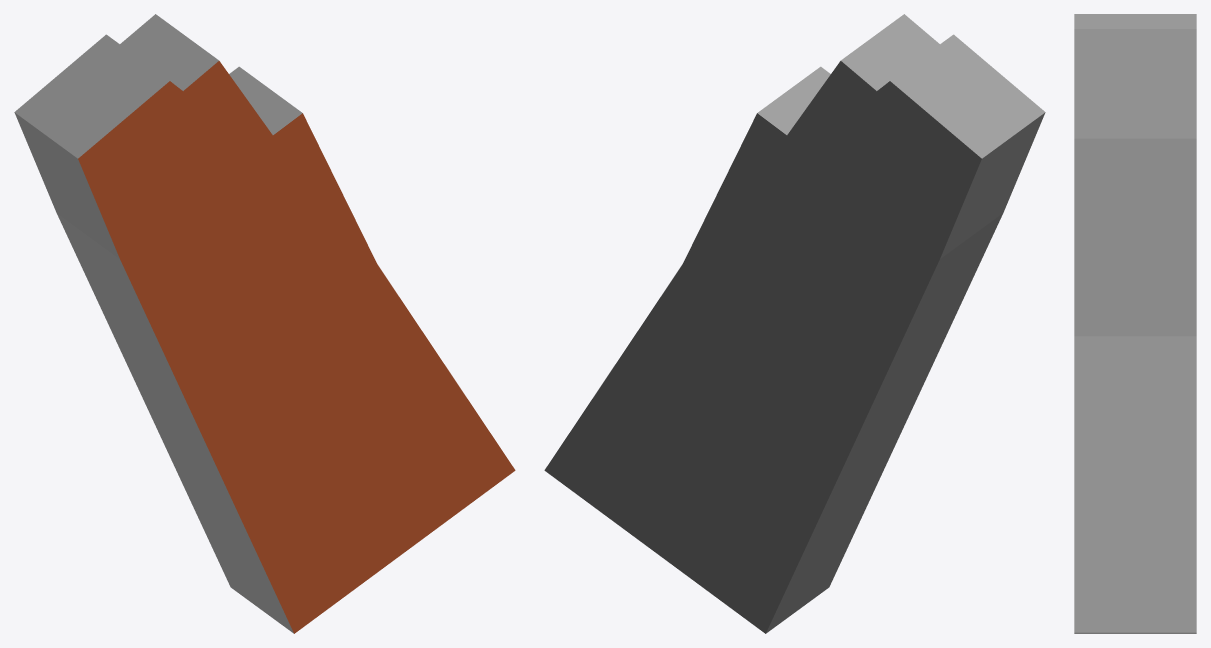
Rendered from construction_6517_assumed_A_Casa_h6m.obj.
3 renders of one model, left to right at view 1: azimuth 30°, elevation 25°; view 2: azimuth 150°, elevation 25°; view 3: azimuth 270°, elevation 25°, orthographic. The views are drawn at different scales.
Visible parts, largest first — view 1: construction_6517_assumed_A_Casa; view 2: construction_6517_assumed_A_Casa; view 3: construction_6517_assumed_A_Casa.
Part boxes in pixels (box(x1,y1,x2,y2)): construction_6517_assumed_A_Casa: box(14, 14, 515, 633); construction_6517_assumed_A_Casa: box(544, 14, 1045, 633); construction_6517_assumed_A_Casa: box(1074, 14, 1196, 633).
Size of the model in its own units: 23.83 by 30.78 by 6.
